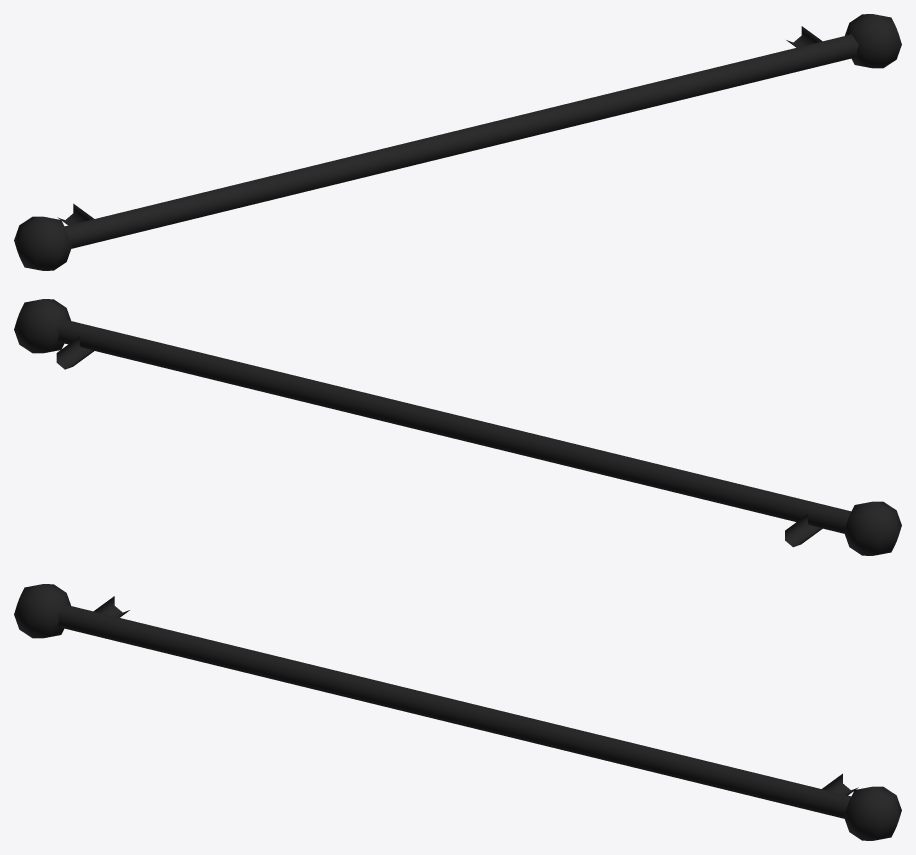
File: curtain_015.fbx
3 views of the same model, one above another, from view 1: azimuth 30°, elevation 25°; view 2: azimuth 150°, elevation 25°; view 3: azimuth 330°, elevation 25° (orthographic).
Visible parts, largest first — view 1: curtain_015; view 2: curtain_015; view 3: curtain_015.
Boxes of the visible parts, x1,y1,x2,y2 form: curtain_015: (14, 14, 901, 270); curtain_015: (14, 299, 901, 555); curtain_015: (14, 584, 901, 840).
Size of the model in its own units: 380 by 32.67 by 22.38.
